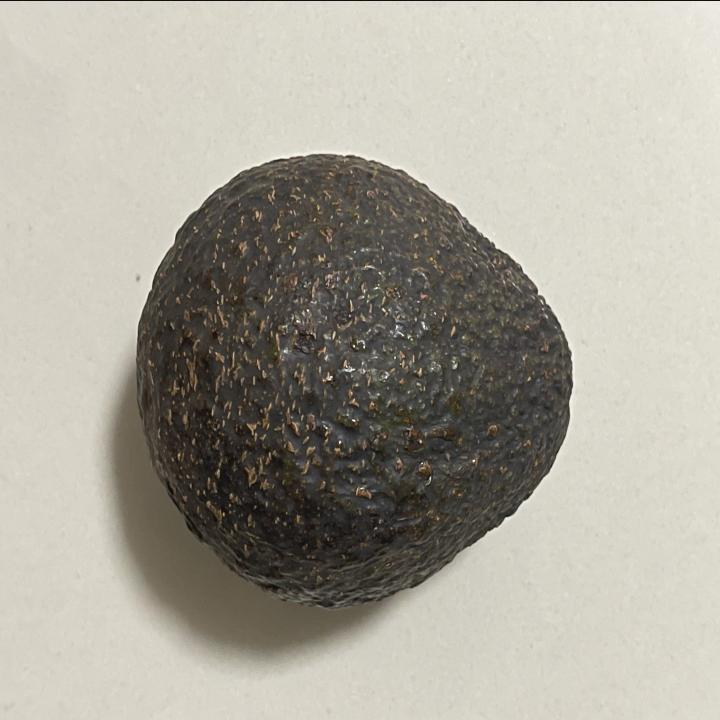Level2: (127, 140, 578, 618)
